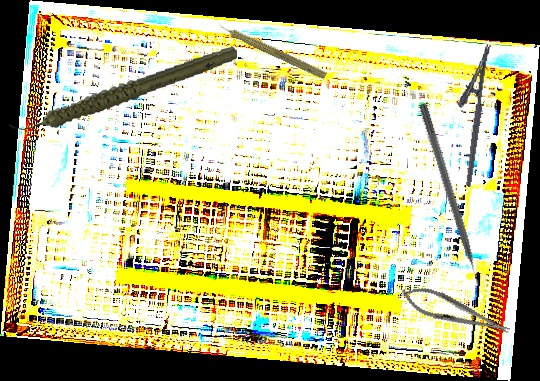Handpiece: (3, 44, 243, 135), (210, 15, 330, 82)
Needle Holder: (396, 279, 515, 345), (446, 40, 492, 188)
Pusher: (416, 102, 485, 295)
